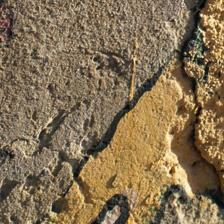Crack: (60, 66, 165, 201), (178, 9, 223, 190)
